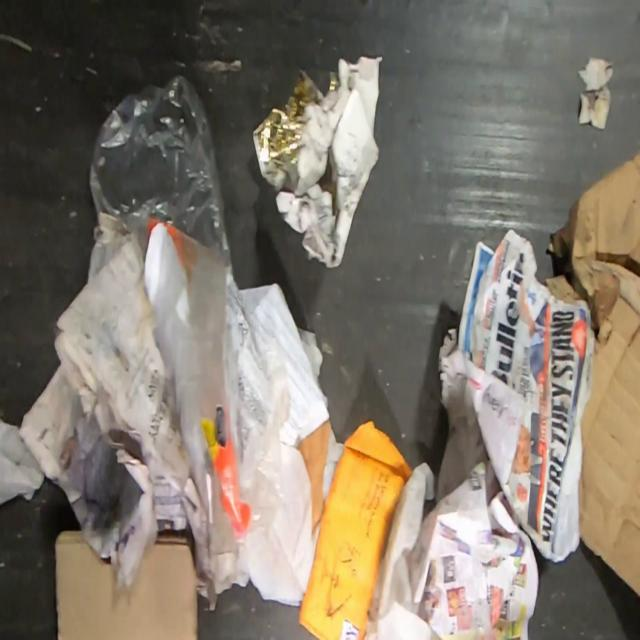cardboard: (544, 150, 640, 595), (54, 527, 198, 640)
soft_plastic: (88, 70, 293, 551)
